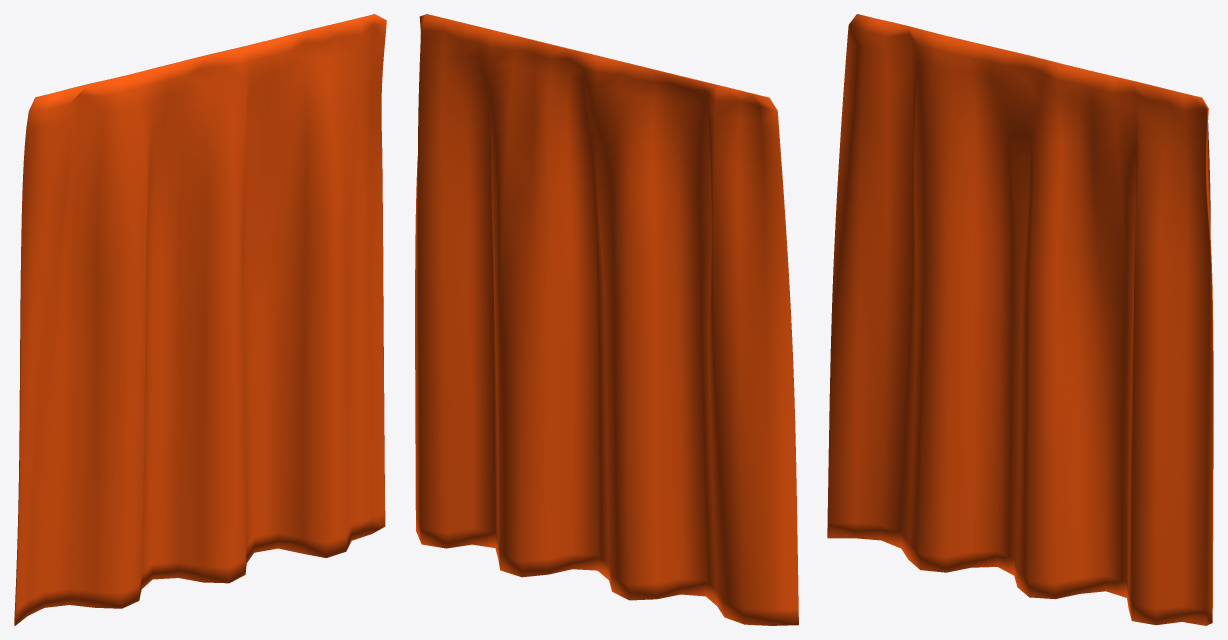
File: telon abrible izquierdo.fbx
3 renders of one model, left to right at view 1: azimuth 30°, elevation 25°; view 2: azimuth 150°, elevation 25°; view 3: azimuth 330°, elevation 25°, orthographic.
Visible parts, largest first — view 1: Telon izquierda; view 2: Telon izquierda; view 3: Telon izquierda.
Boxes of the visible parts, x1,y1,x2,y2 form: Telon izquierda: (14, 14, 386, 625); Telon izquierda: (415, 14, 798, 625); Telon izquierda: (827, 14, 1213, 625).
Bounding box in the file's own units: 361 × 480 × 43.19.
